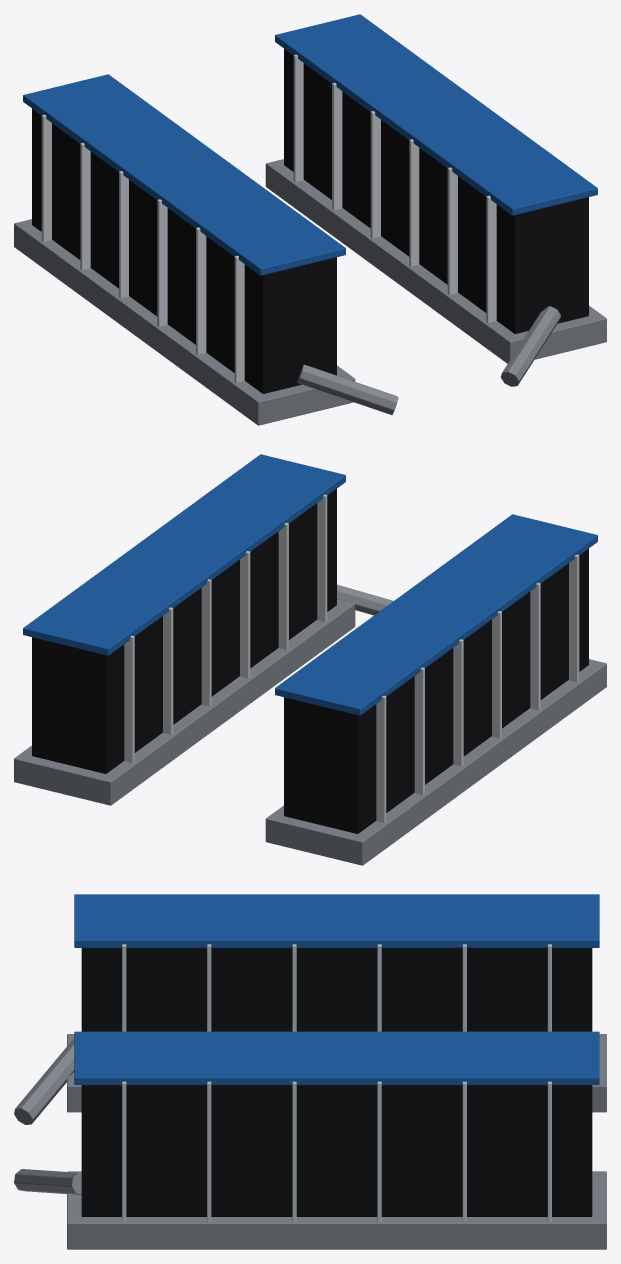
File: strix_cooling_radiator.fbx
The picture shows the model from 3 angles, top to bottom: view 1: azimuth 30°, elevation 25°; view 2: azimuth 150°, elevation 25°; view 3: azimuth 270°, elevation 25°; orthographic projection. The views are drawn at different scales.
Visible parts, largest first — view 1: Cooling_Radiator; view 2: Cooling_Radiator; view 3: Cooling_Radiator.
Part boxes in pixels (left/top/right/bottom): Cooling_Radiator: left=14, top=14, right=606, bottom=425; Cooling_Radiator: left=14, top=454, right=606, bottom=865; Cooling_Radiator: left=14, top=894, right=606, bottom=1249.
Size of the model in its own units: 61 by 26.29 by 81.27.
